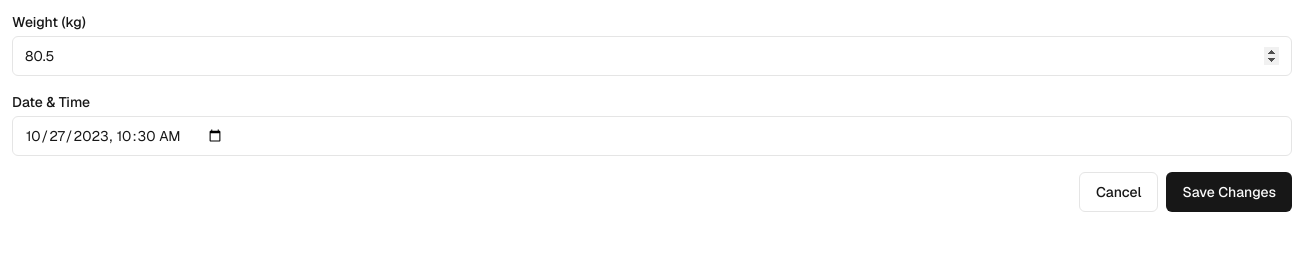
Test: EditWeightForm › shows an error if date input is cleared/invalid during submission and shows weight error if still present
Simulate a previous weight error
Replace the text in the number field labelled "Weight (kg)" with "0": (652, 56) [12,36,1292,76]
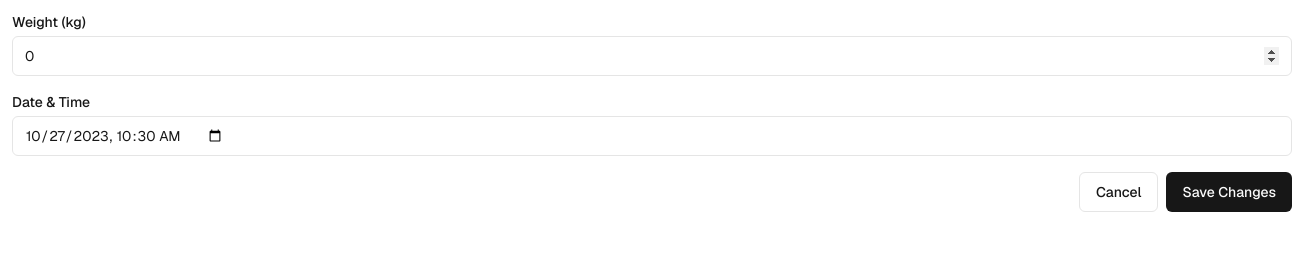
Click the button "Save Changes": (1229, 192) [1166,172,1292,212]
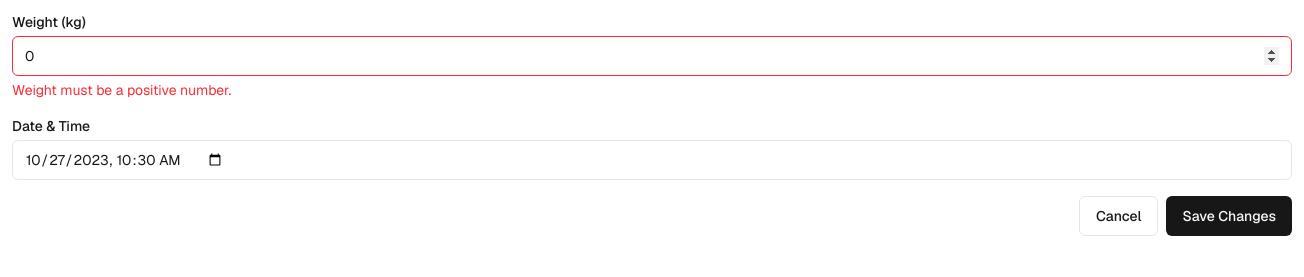
Check: the text "Weight must be a positive number." is shown, box [12,81,231,99]
Clear the field labelled "Date & Time": (652, 160) [12,140,1292,180]
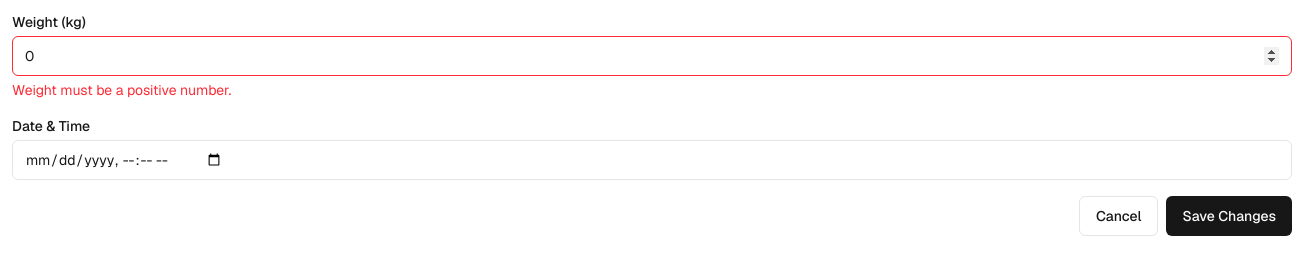
Click the button "Save Changes": (1229, 216) [1166,196,1292,236]
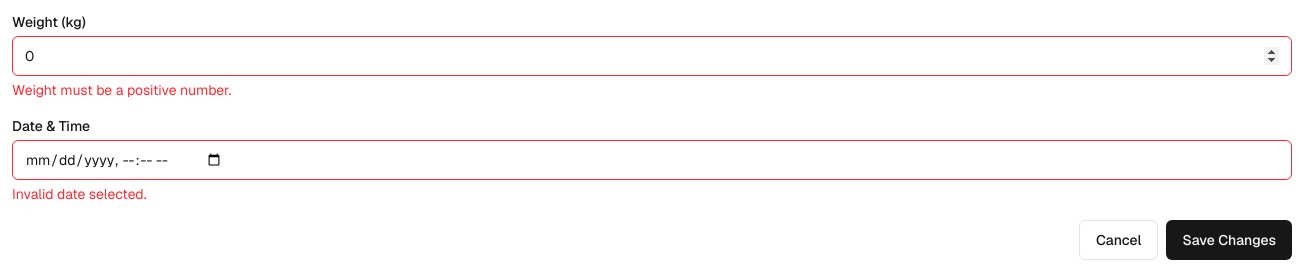
Check: the text "Weight must be a positive number." is shown, box [12,81,231,99]
Check: the text "Invalid date selected." is shown, box [12,185,146,203]
